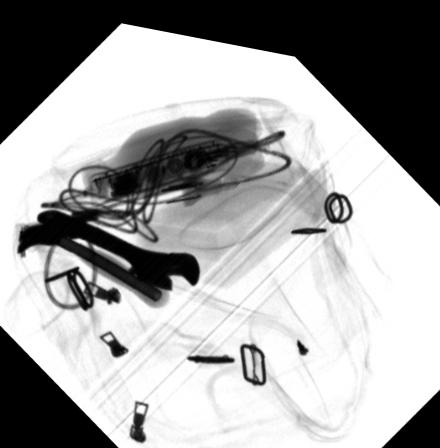Hammer: (16, 223, 171, 302)
Wrench: (38, 205, 200, 283)
